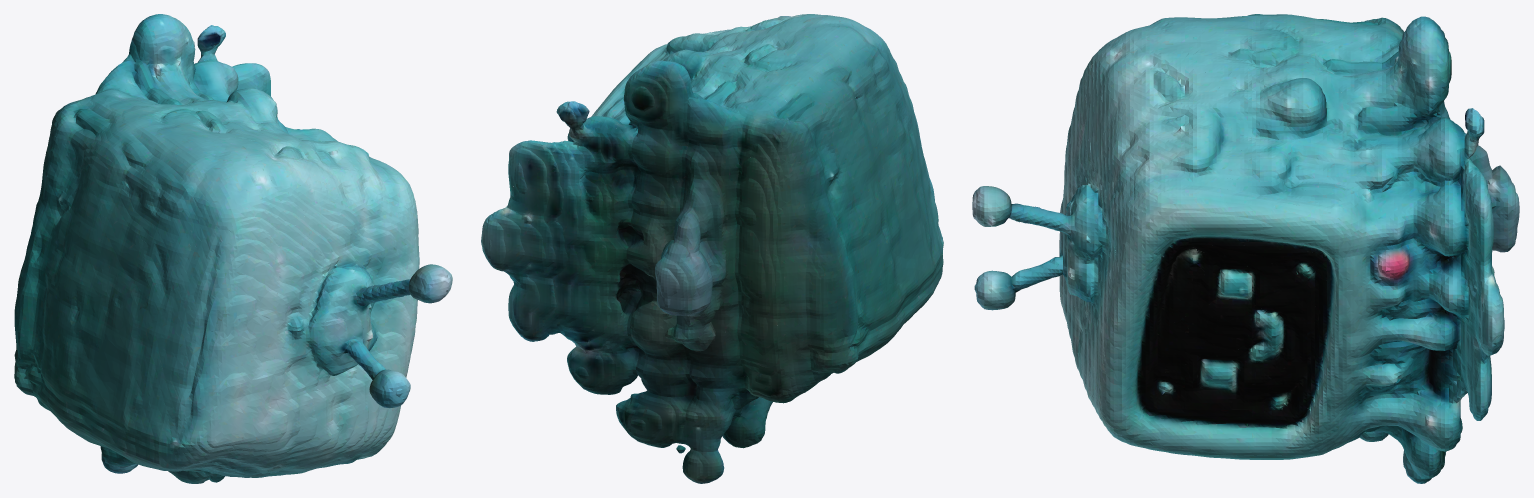
The model's file is screen.glb.
3 renders of one model, left to right at view 1: azimuth 30°, elevation 25°; view 2: azimuth 150°, elevation 25°; view 3: azimuth 270°, elevation 25°, orthographic. The views are drawn at different scales.
Visible parts, largest first — view 1: geometry_0; view 2: geometry_0; view 3: geometry_0.
Boxes of the visible parts, x1=… form: geometry_0: x1=14, y1=14, x2=452, y2=483; geometry_0: x1=481, y1=14, x2=943, y2=483; geometry_0: x1=972, y1=14, x2=1519, y2=483.
Size of the model in its own units: 0.7284 by 0.9142 by 0.9478.
Materials: 1 (1 with a texture image).
